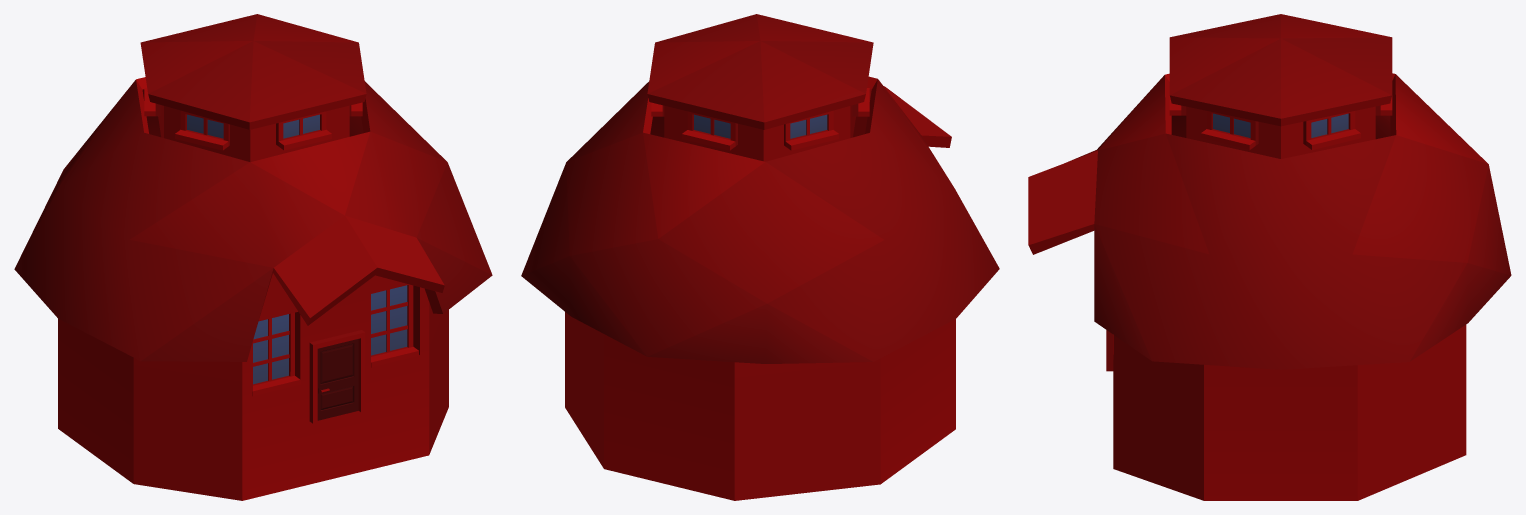
The model's file is buildings-residential-geodesichome_v1.fbx.
3 views of the same model, side by side, from view 1: azimuth 30°, elevation 25°; view 2: azimuth 150°, elevation 25°; view 3: azimuth 270°, elevation 25° (orthographic).
Parts seen in each view (by area): view 1: GeodesicHome_v1_base, GeodesicHome_v1_windowRefl; view 2: GeodesicHome_v1_base, GeodesicHome_v1_windowRefl; view 3: GeodesicHome_v1_base, GeodesicHome_v1_windowRefl.
Part boxes in pixels (x1,y1,x2,y2): GeodesicHome_v1_base: [14, 14, 492, 500]; GeodesicHome_v1_windowRefl: [187, 114, 407, 384]; GeodesicHome_v1_base: [521, 14, 999, 500]; GeodesicHome_v1_windowRefl: [694, 114, 827, 138]; GeodesicHome_v1_base: [1028, 14, 1511, 500]; GeodesicHome_v1_windowRefl: [1213, 113, 1348, 137].
Size of the model in its own units: 12.62 by 11.63 by 13.26.
